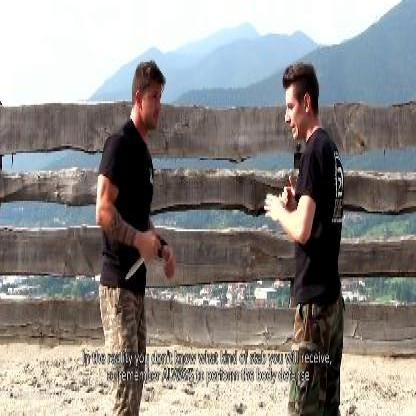knife: (122, 228, 162, 280)
